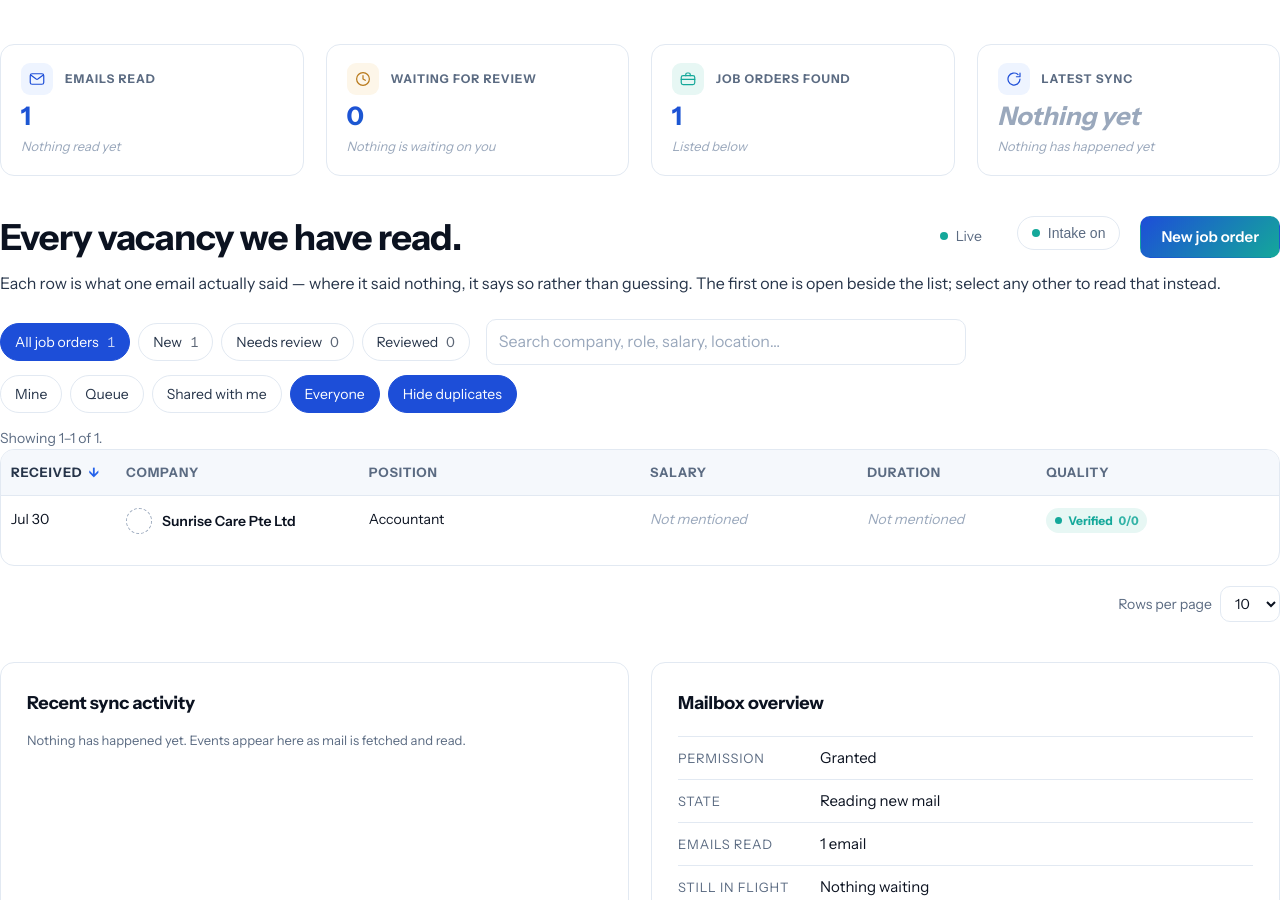
Test: linking a job order to its client › says a job order is not linked to a client
Click the button with aria-label "Show details for Sunrise Care Pte Ltd". click: (229, 521)
box: [162, 510, 296, 532]
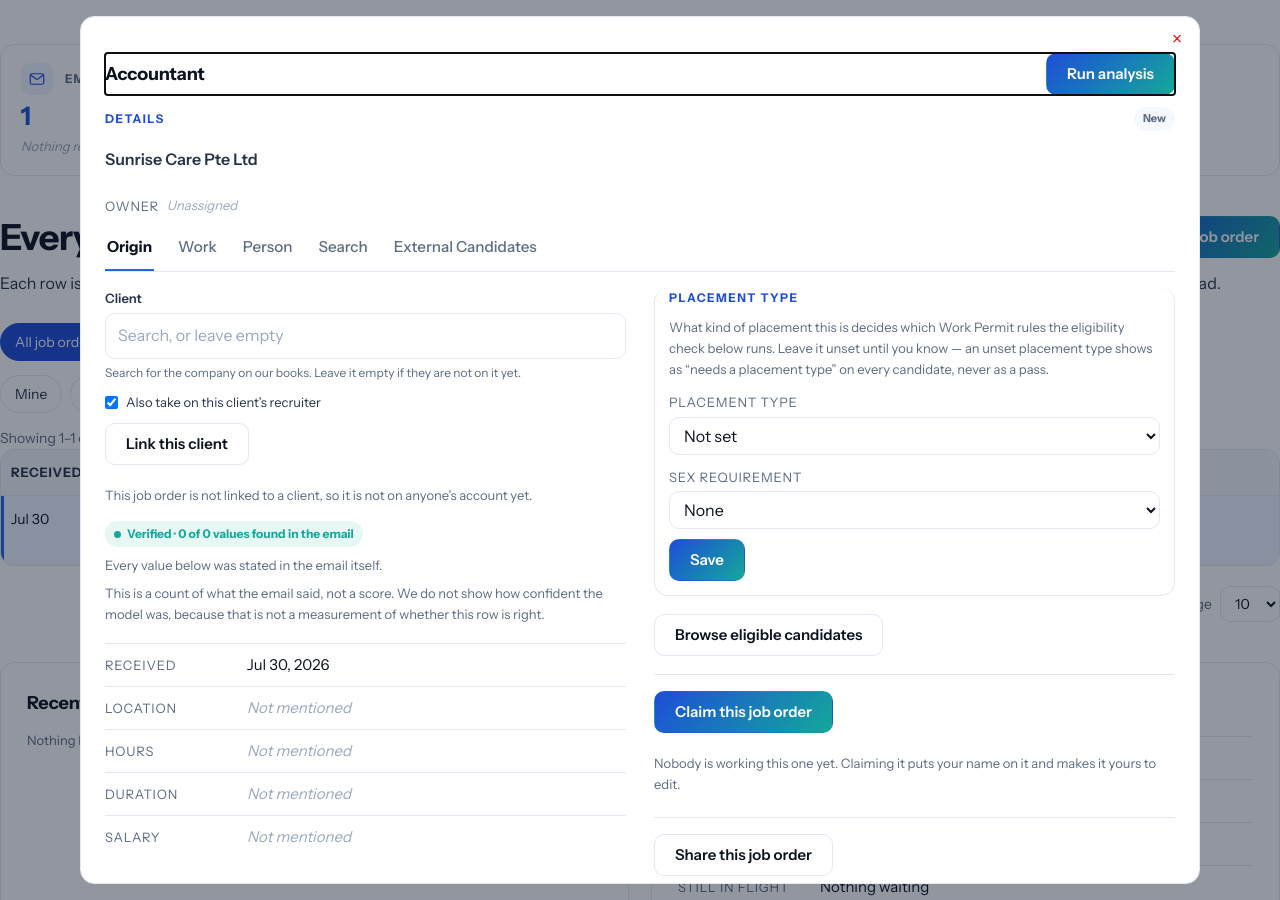
Expected: the text "not linked to a client" is shown, [105, 487, 532, 503]
